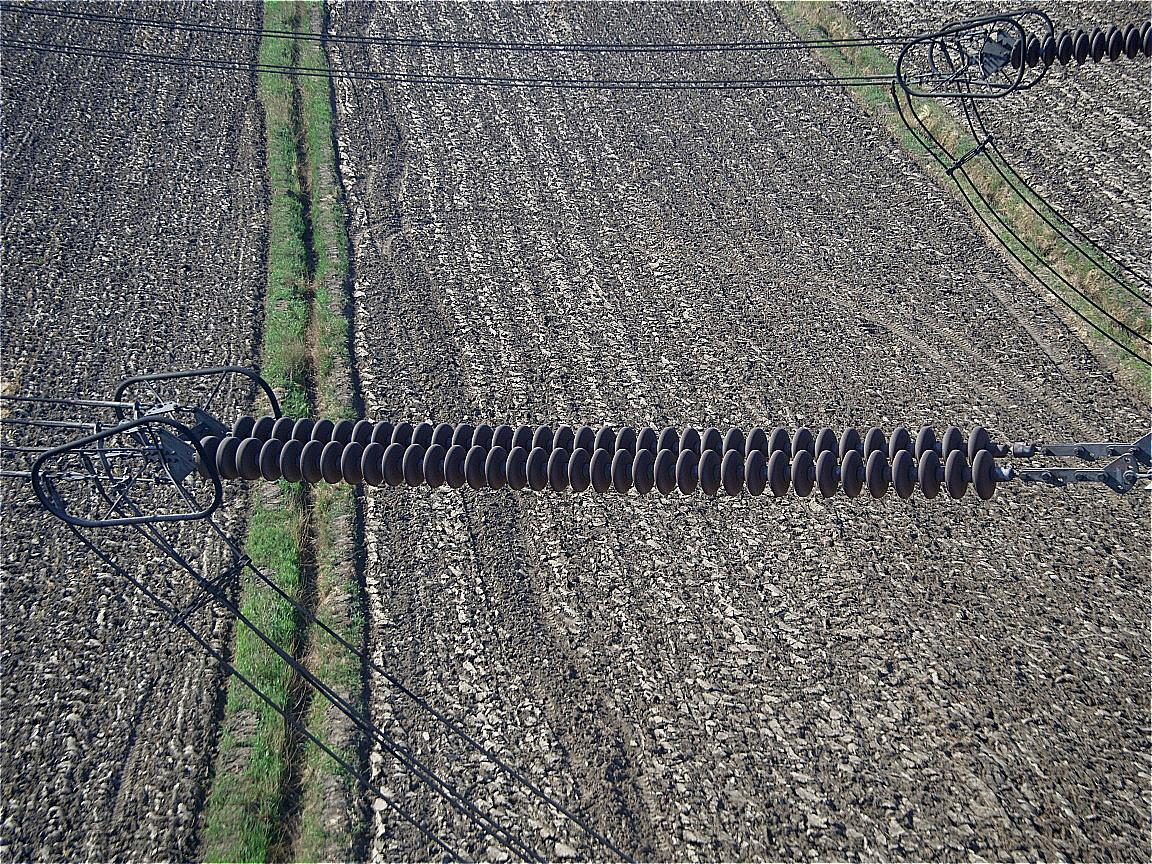insultor1: (198, 416, 998, 502), (1011, 19, 1151, 69)
